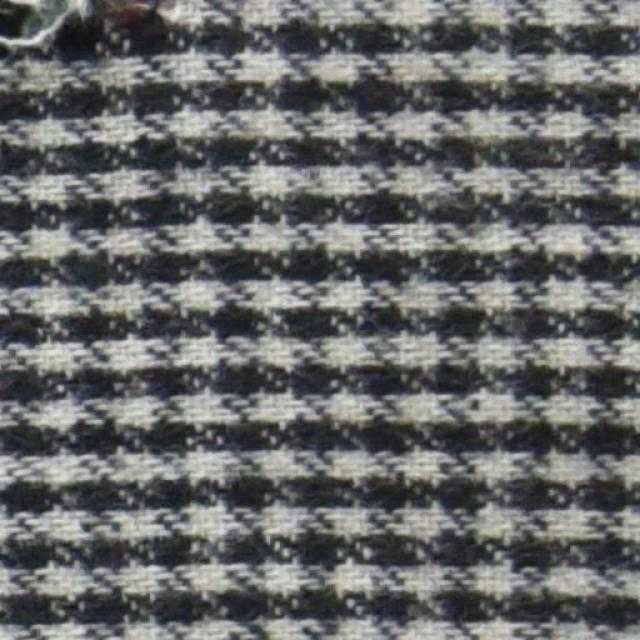Hole: (0, 0, 85, 45)
Stain: (91, 0, 158, 45)
